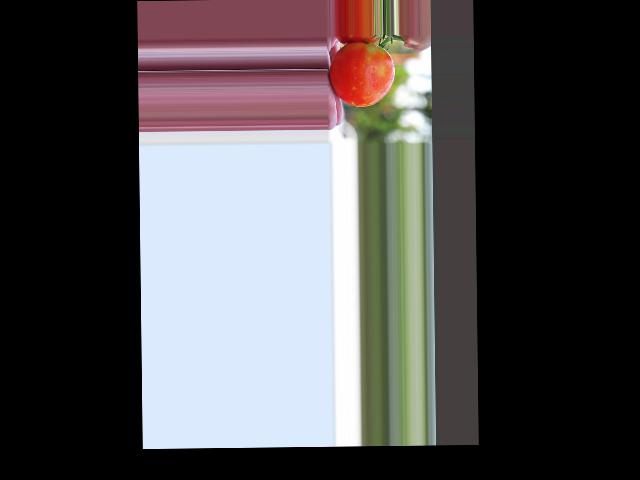tomato: (329, 42, 395, 107)
